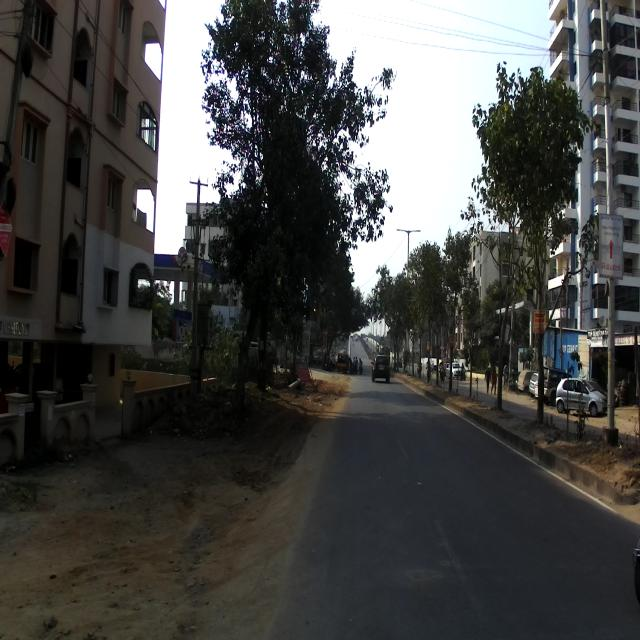tree ahead at: (207, 1, 350, 450)
